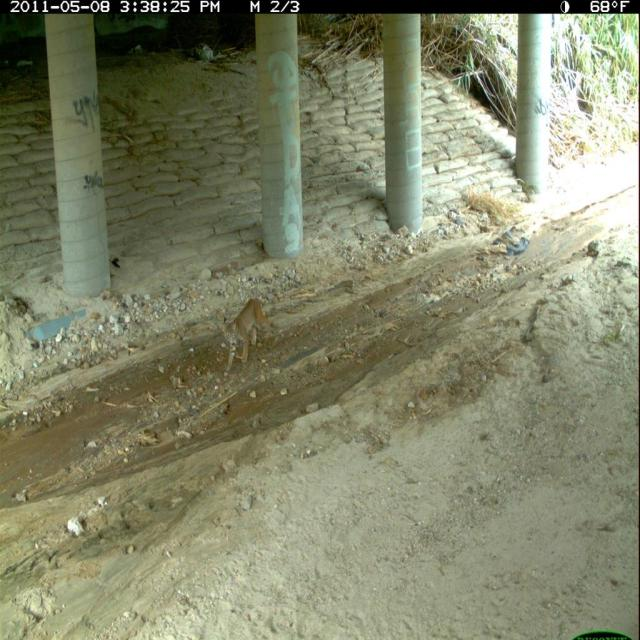bobcat: (220, 295, 274, 374)
